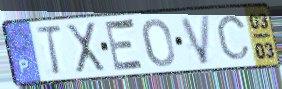C: (215, 13, 252, 61)
E: (103, 17, 147, 74)
O: (141, 17, 177, 69)
T: (34, 23, 65, 78)
V: (177, 12, 212, 67)
X: (64, 21, 108, 76)
